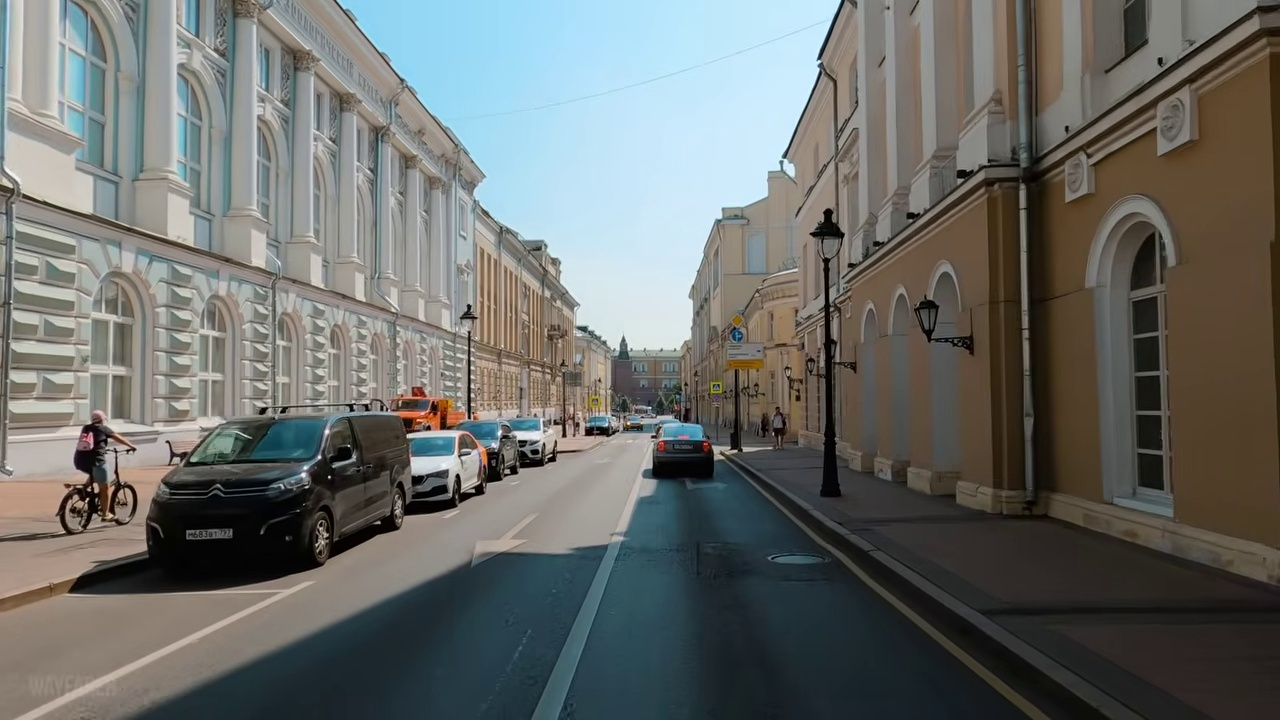apagada: (809, 222, 842, 263)
